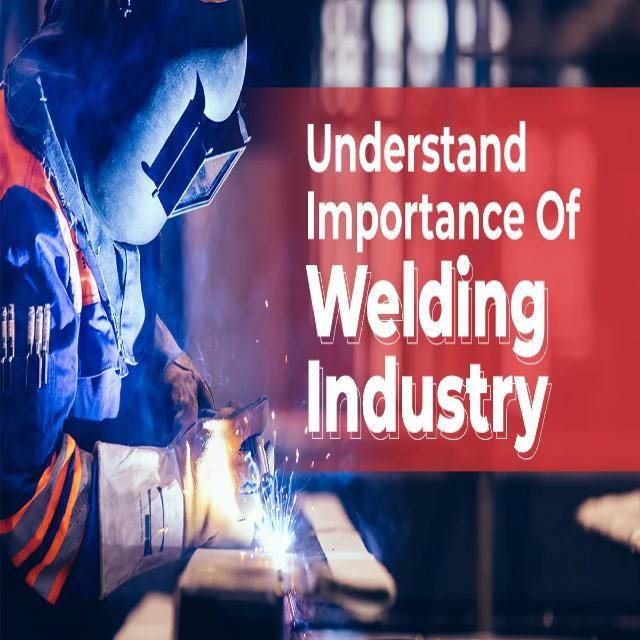with_helmet: (19, 0, 255, 250)
